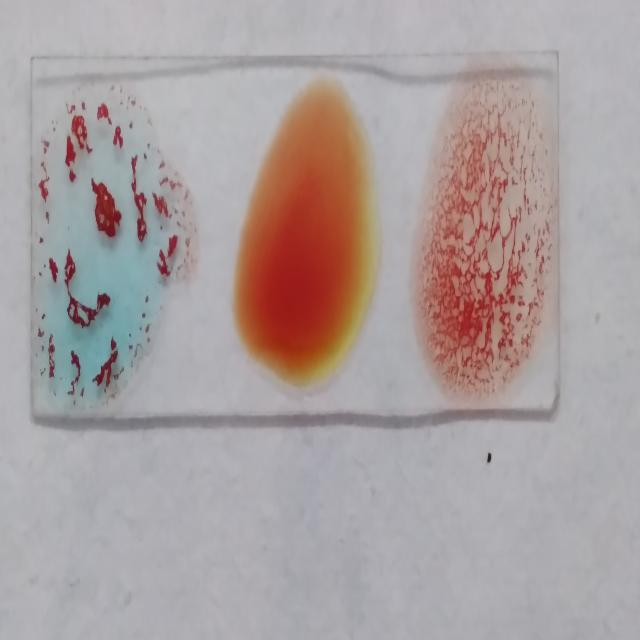A: (33, 96, 168, 396)
D: (428, 84, 550, 398)
